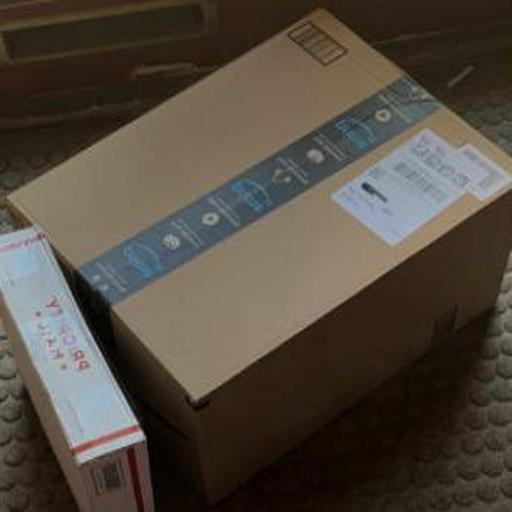Amazon: (34, 25, 473, 397)
Other: (0, 233, 146, 512)
